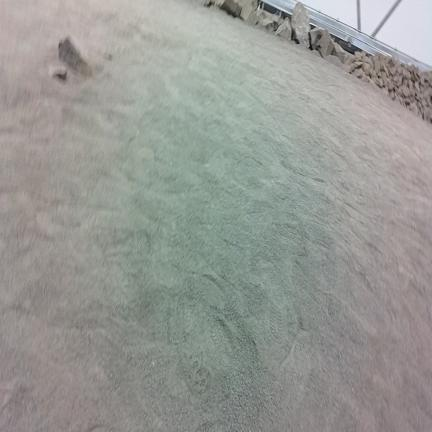Rock: (59, 37, 92, 76), (292, 2, 310, 48), (310, 28, 335, 58), (333, 43, 353, 64), (240, 2, 258, 25), (218, 0, 241, 17), (276, 18, 292, 40), (259, 15, 278, 32), (49, 66, 67, 81), (324, 55, 343, 68), (352, 69, 369, 82), (371, 56, 381, 74), (420, 71, 431, 86), (350, 61, 363, 73), (409, 104, 419, 116), (381, 71, 388, 87), (424, 107, 431, 123), (400, 86, 409, 97), (389, 90, 397, 100), (103, 53, 112, 61), (312, 50, 322, 57), (403, 69, 410, 79), (389, 66, 396, 75), (421, 96, 426, 107), (397, 64, 403, 73), (397, 77, 402, 87), (415, 81, 419, 90)
